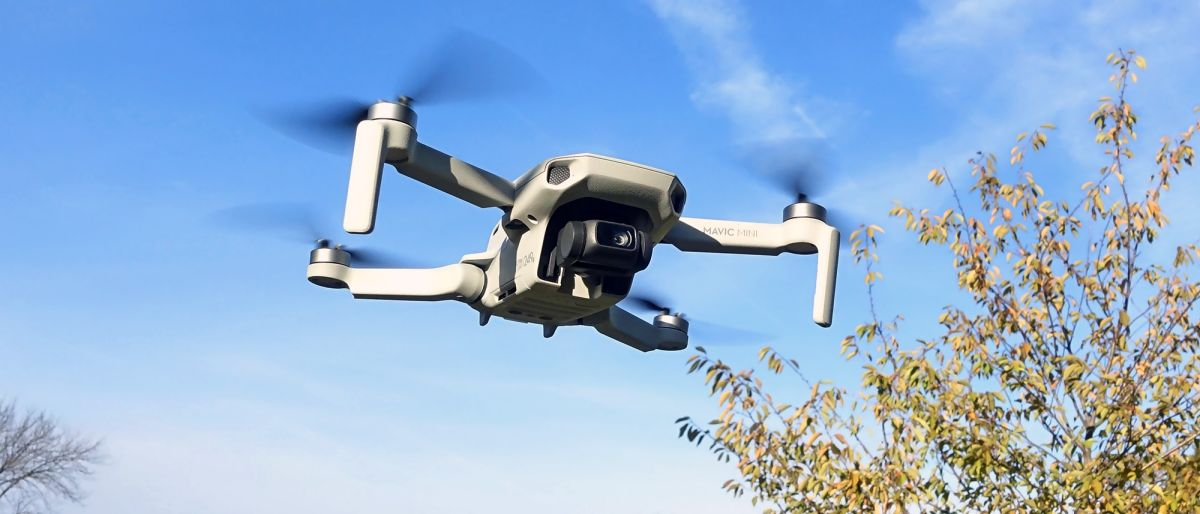drone: (275, 40, 845, 355)
